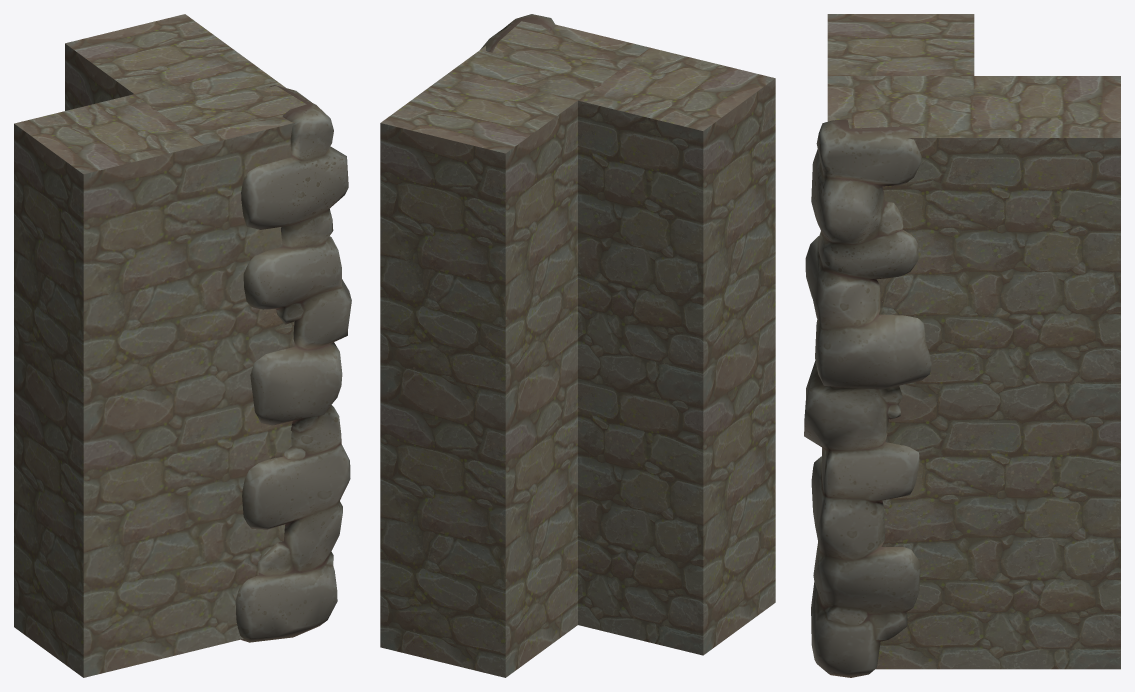
The model's file is MSH_fwOF_Ruins_Wall_Corner_02.fbx.
The picture shows the model from 3 angles, left to right: view 1: azimuth 30°, elevation 25°; view 2: azimuth 150°, elevation 25°; view 3: azimuth 270°, elevation 25°; orthographic projection. The views are drawn at different scales.
Visible parts, largest first — view 1: MSH_fwOF_Ruins_Wall_Corner_02_Base, MSH_fwOF_Ruins_Wall_Corner_02_LOD0; view 2: MSH_fwOF_Ruins_Wall_Corner_02_Base, MSH_fwOF_Ruins_Wall_Corner_02_LOD0; view 3: MSH_fwOF_Ruins_Wall_Corner_02_Base, MSH_fwOF_Ruins_Wall_Corner_02_LOD0.
Boxes of the visible parts, x1,y1,x2,y2 form: MSH_fwOF_Ruins_Wall_Corner_02_Base: (14,14,306,677); MSH_fwOF_Ruins_Wall_Corner_02_LOD0: (235,85,351,642); MSH_fwOF_Ruins_Wall_Corner_02_Base: (380,21,775,677); MSH_fwOF_Ruins_Wall_Corner_02_LOD0: (480,14,555,52); MSH_fwOF_Ruins_Wall_Corner_02_Base: (827,14,1120,669); MSH_fwOF_Ruins_Wall_Corner_02_LOD0: (804,119,931,677).
Size of what is drawn, in the model's own units: 2.27 by 4.14 by 2.16.
